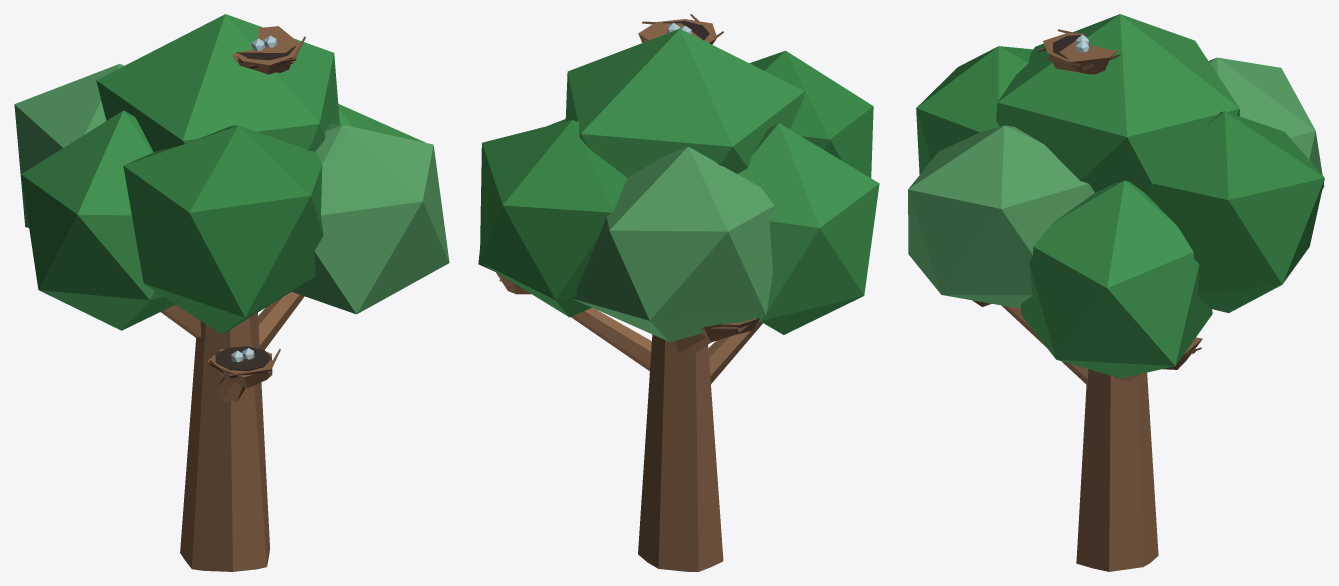
Rendered from lair-nest-tree.glb.
3 renders of one model, left to right at view 1: azimuth 30°, elevation 25°; view 2: azimuth 150°, elevation 25°; view 3: azimuth 270°, elevation 25°, orthographic. The views are drawn at different scales.
Visible parts, largest first — view 1: lair-nest-tree; view 2: lair-nest-tree; view 3: lair-nest-tree.
Part boxes in pixels (bbox=[...]): lair-nest-tree: bbox=[14, 14, 449, 571]; lair-nest-tree: bbox=[478, 14, 879, 571]; lair-nest-tree: bbox=[908, 14, 1324, 571].
Size of the model in its own units: 3.99 by 5.3 by 3.71.
